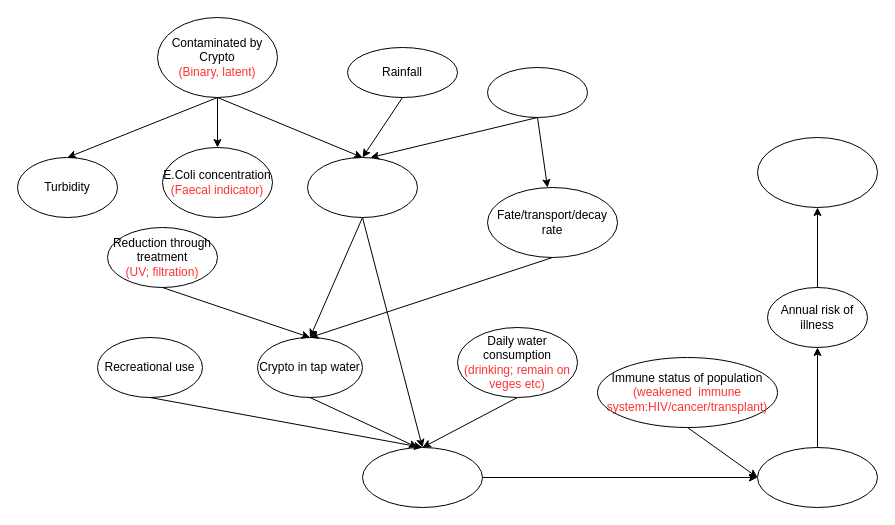
Some shapes in this 895 by 525 pixel diagram are drawn without their labels. The box of each missing label's shape, as (x1, y1, x2, y2) in pixels:
Annual exposure to Crypto: (362, 446, 482, 508)
Annual impacts in DALYs: (756, 136, 878, 208)
Annual risk of infection: (756, 446, 878, 508)
Crypto in the source water: (306, 156, 418, 218)
Temperature: (486, 66, 588, 118)
